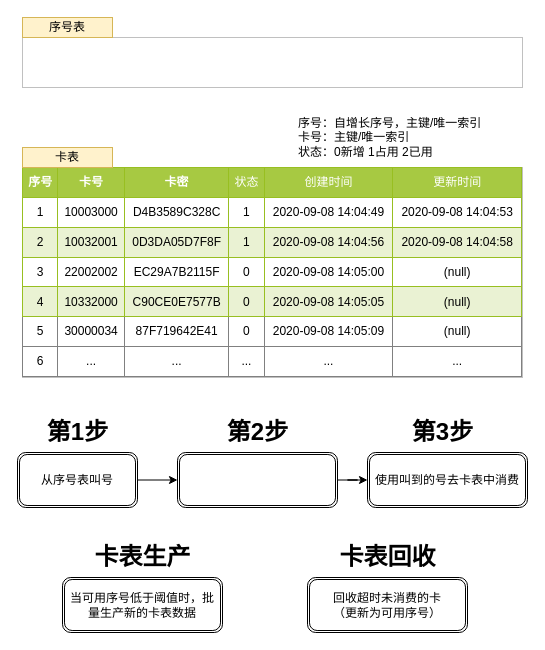
The diagram is 545 pixels wide and 650 high, and some of its shapes have lost their labels. Here are the shapes that lost their labels. From the top down, the centre of each, then its label:
At [272,62]: "名称 消费序号 可用序号 创建时间 更新时间 卡 1 1000000 2020-09-08 14:04:49 2020-09-08 14:04:53".
At [257,480]: "使用叫到的号去卡表中占用".
